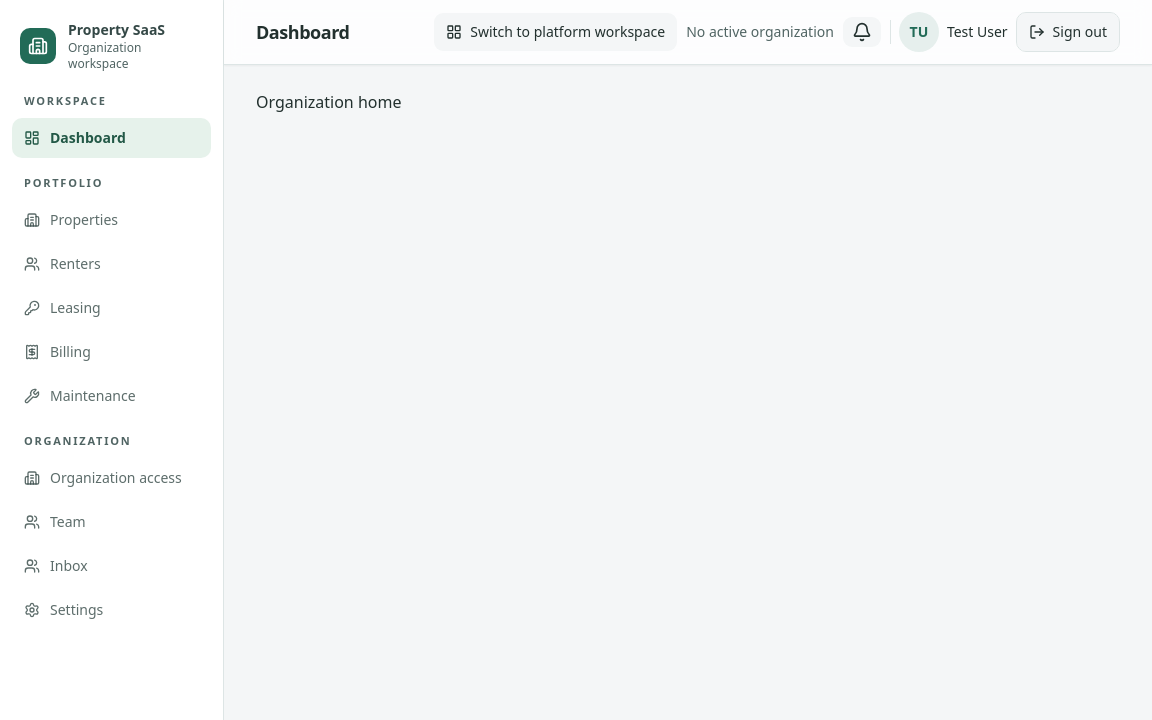
Test: lets a platform owner without an active organization reach the platform workspace
The image size is (1152, 720).
Step 1. Click the link "Switch to platform workspace" → point(556, 32), box [433, 12, 678, 52]
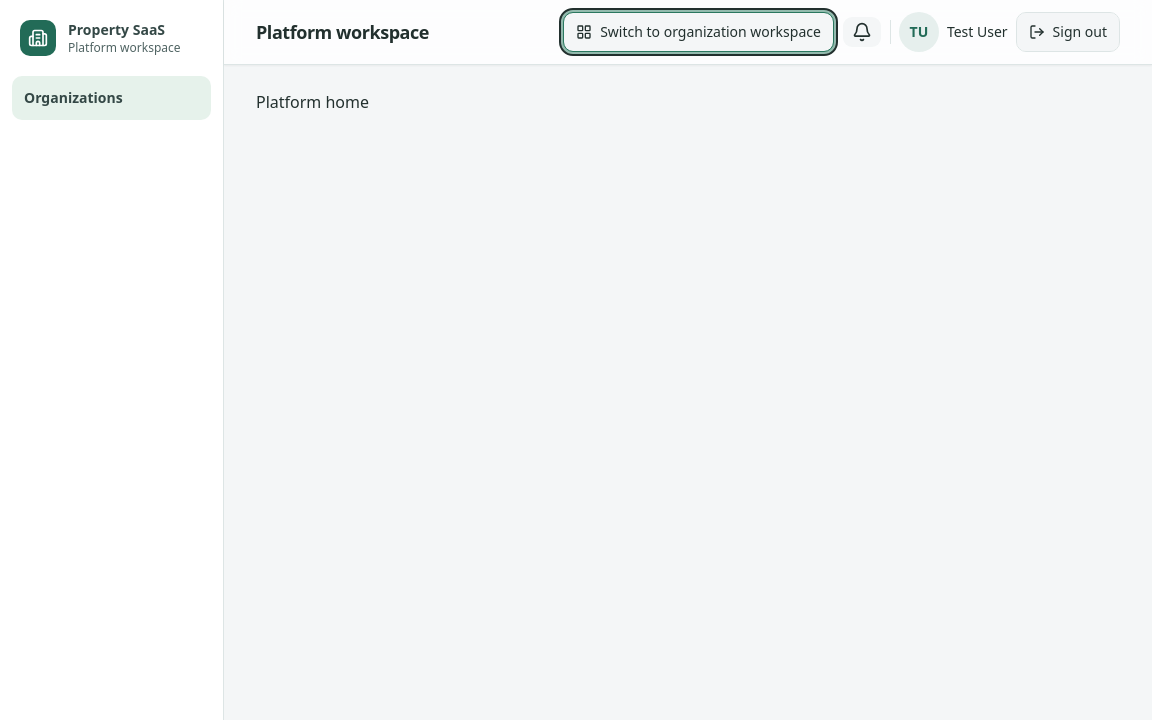
Check: the text "Platform home" is shown, box [256, 91, 369, 113]
Check: the text "No active organization" is gone
